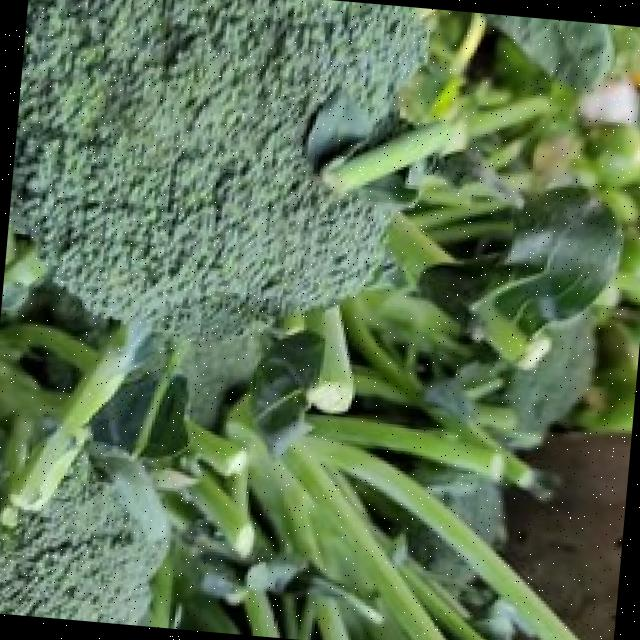Broccoli: (8, 0, 423, 338), (8, 0, 422, 335), (0, 452, 166, 625), (0, 452, 165, 625), (501, 310, 593, 432), (501, 310, 593, 432), (403, 459, 506, 548), (410, 462, 506, 547), (403, 513, 464, 576), (405, 520, 457, 561)
